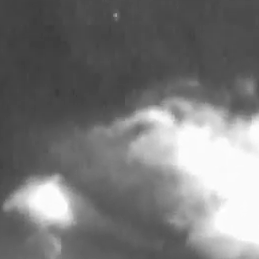Target: (114, 14, 117, 17)
